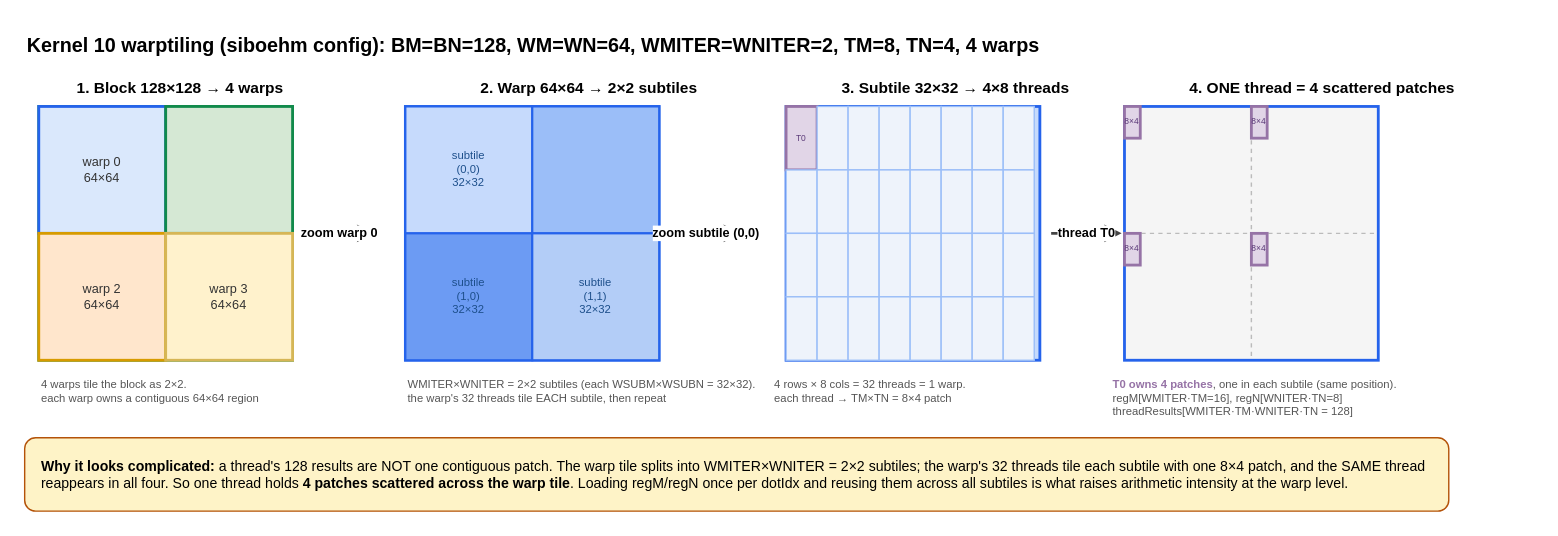
This 1558x536 diagram has some shape labels left out. The box of each missing label's shape, as (x1, y1, x2, y2) in pixels:
subtile (0,1) 32×32: (531, 105, 660, 234)
warp 1 64×64: (164, 104, 293, 234)
